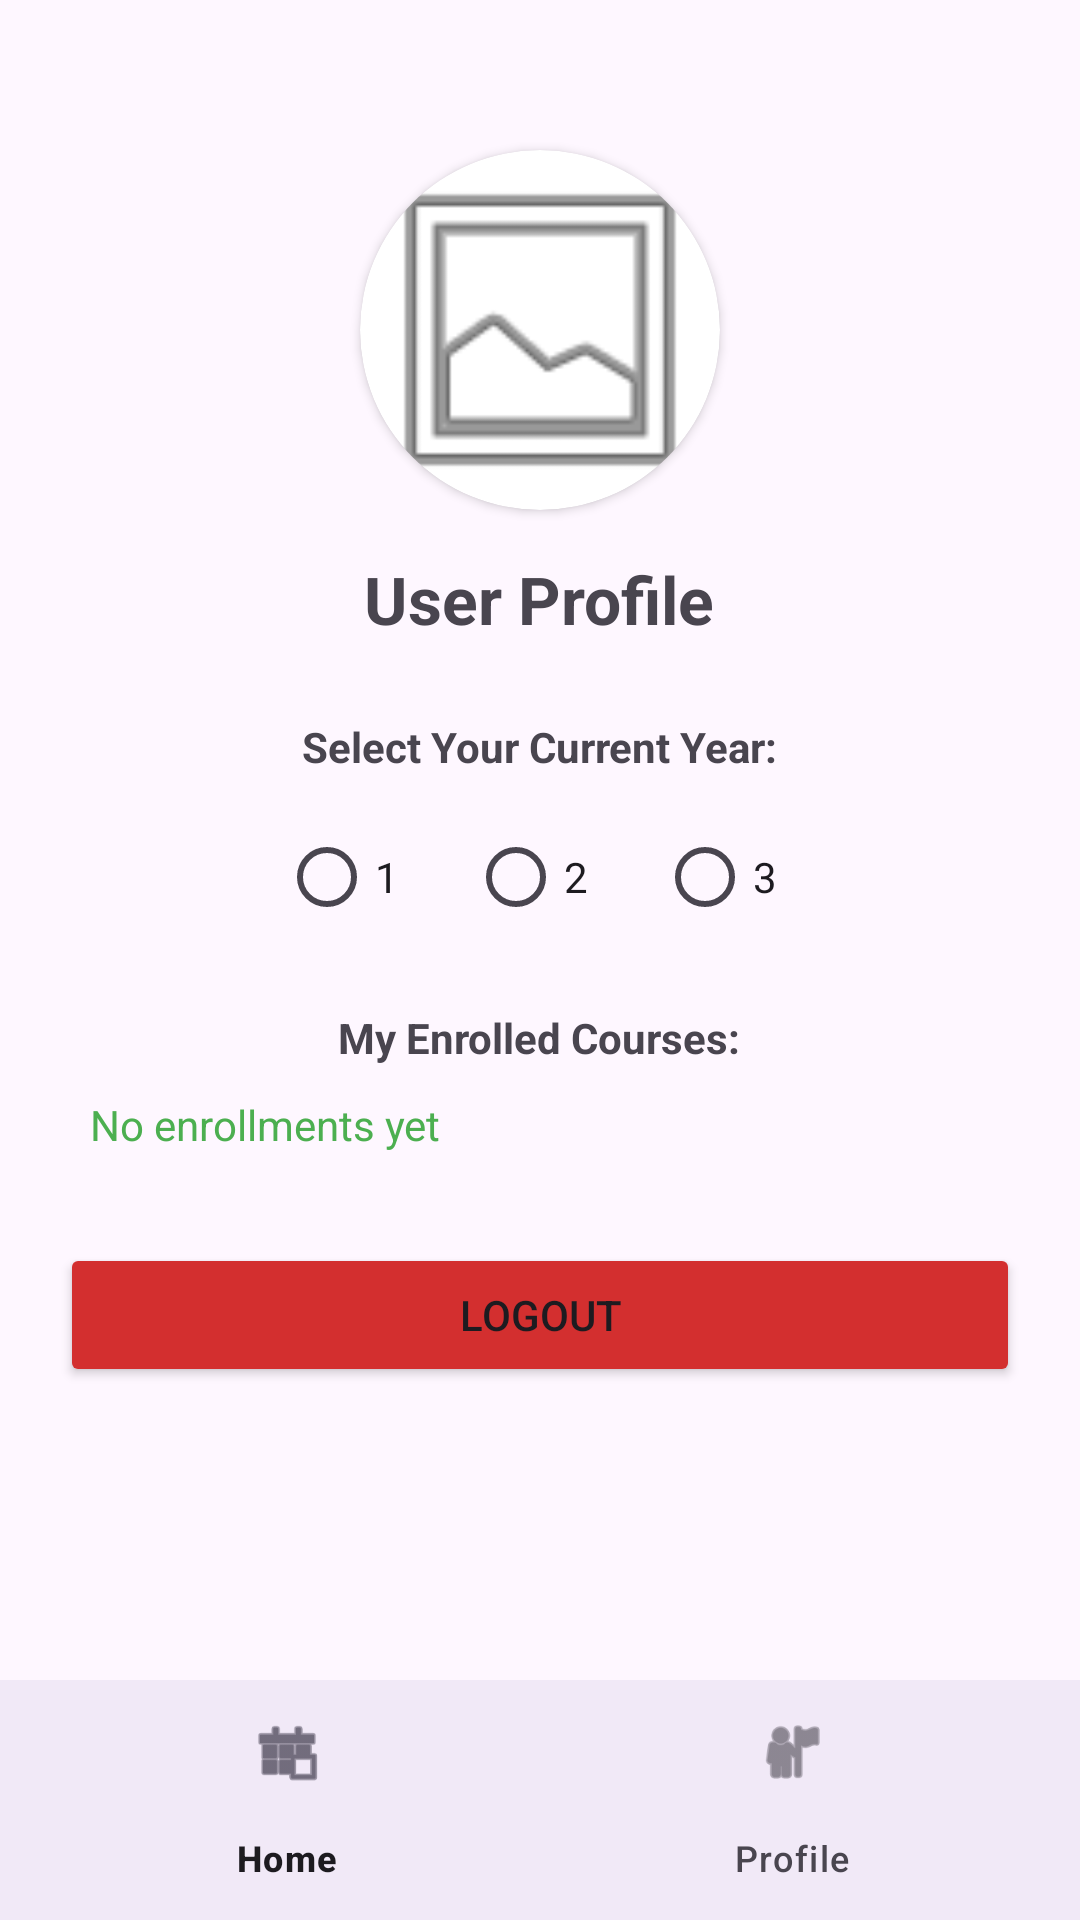

Where to tap for icons on this 1080px x 1920px app screen, as (x,y):
gallery: (540,330)
